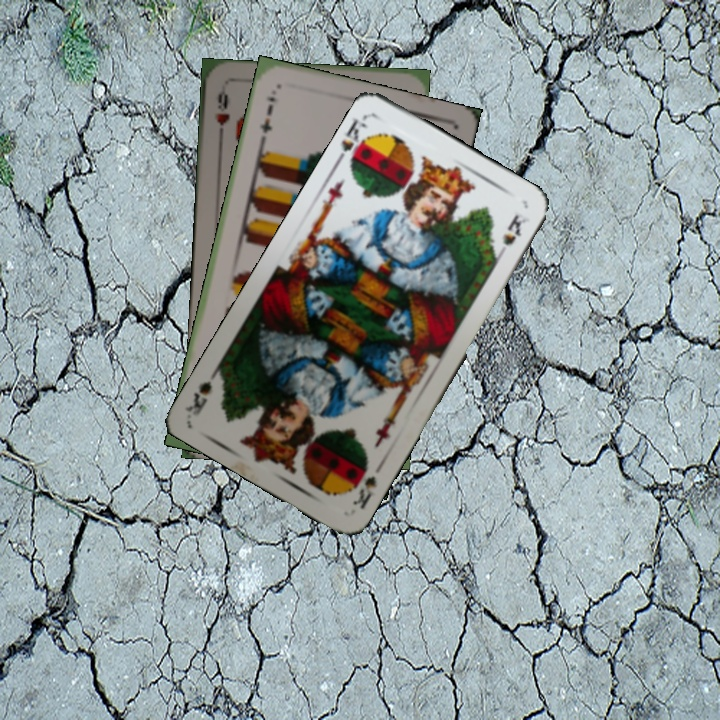E7: (256, 92, 280, 143)
H9: (212, 84, 232, 143)
SK: (332, 115, 375, 172), (348, 472, 380, 512)
